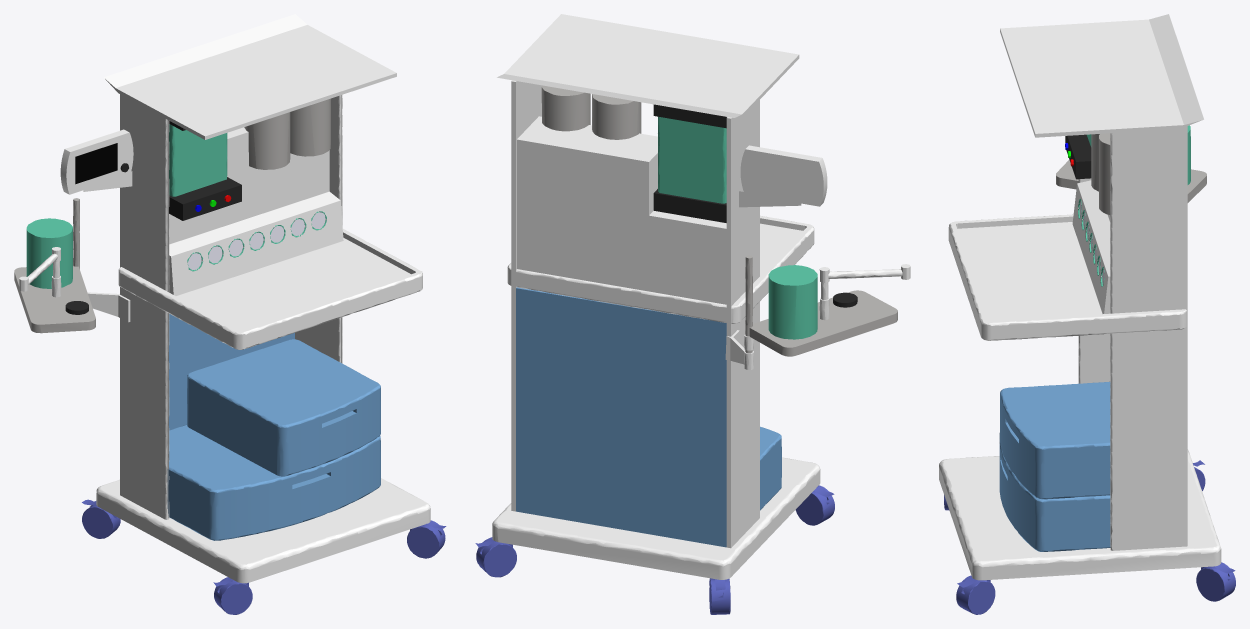
File: w-Anesthesia_Tower 26_ x 26_ [226134].fbx
3 renders of one model, left to right at view 1: azimuth 30°, elevation 25°; view 2: azimuth 150°, elevation 25°; view 3: azimuth 270°, elevation 25°, orthographic. The views are drawn at different scales.
Visible parts, largest first — view 1: w_Anesthesia_Tower_26__x_26___226134_; view 2: w_Anesthesia_Tower_26__x_26___226134_; view 3: w_Anesthesia_Tower_26__x_26___226134_.
Part boxes in pixels (box(x1,y1,x2,y2)): w_Anesthesia_Tower_26__x_26___226134_: box(14, 14, 446, 614); w_Anesthesia_Tower_26__x_26___226134_: box(475, 14, 910, 614); w_Anesthesia_Tower_26__x_26___226134_: box(939, 14, 1235, 614).
Size of the model in its own units: 114 by 137 by 76.79.
